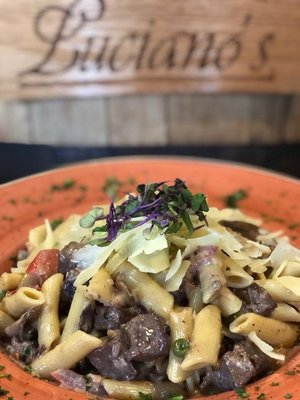sandwich: (1, 164, 299, 400)
